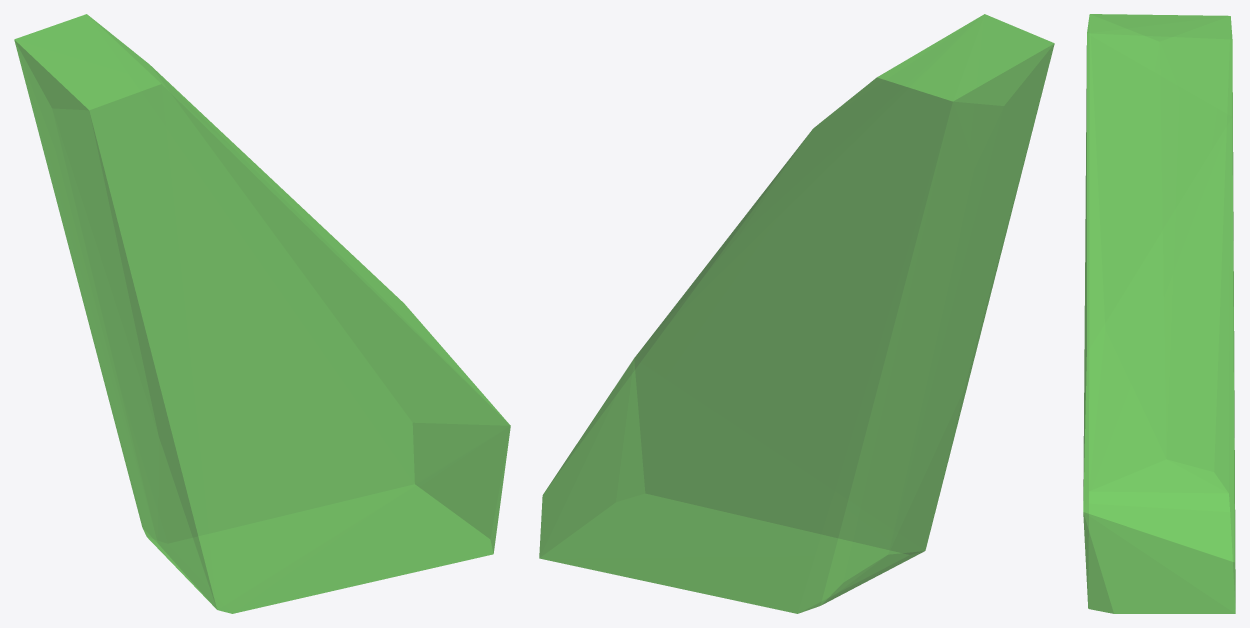
3 renders of one model, left to right at view 1: azimuth 30°, elevation 25°; view 2: azimuth 150°, elevation 25°; view 3: azimuth 270°, elevation 25°, orthographic. The views are drawn at different scales.
Parts seen in each view (by area): view 1: Shape_IndexedFaceSet.014_Shape_IndexedFaceSet.12285; view 2: Shape_IndexedFaceSet.014_Shape_IndexedFaceSet.12285; view 3: Shape_IndexedFaceSet.014_Shape_IndexedFaceSet.12285.
Boxes of the visible parts, bbox=[...] form: Shape_IndexedFaceSet.014_Shape_IndexedFaceSet.12285: bbox=[14, 14, 510, 613]; Shape_IndexedFaceSet.014_Shape_IndexedFaceSet.12285: bbox=[539, 14, 1054, 613]; Shape_IndexedFaceSet.014_Shape_IndexedFaceSet.12285: bbox=[1083, 14, 1235, 613].
Size of the model in its own units: 0.4668 by 0.5898 by 0.1833.
